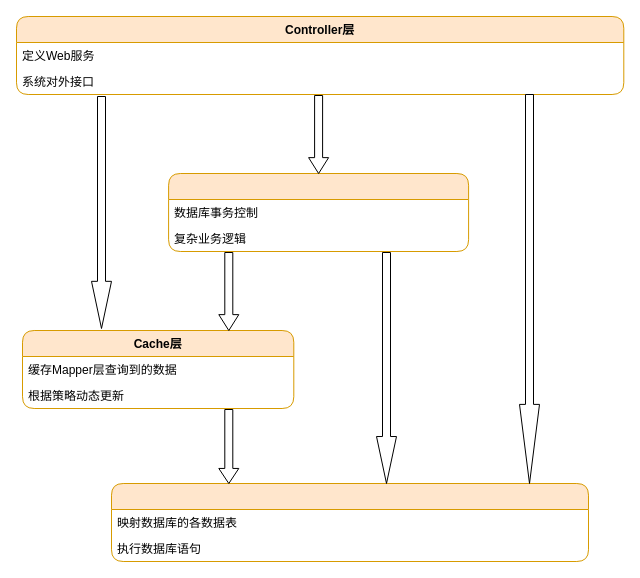
Some shapes in this 640 by 578 pixel diagram are drawn without their labels. The shapes that lost their labels are listed below. From the top down, each one's box as (x1, y1, x2, y2) in pixels, then its label:
(168, 172, 469, 252): Service层
(110, 482, 588, 562): Mapper层
